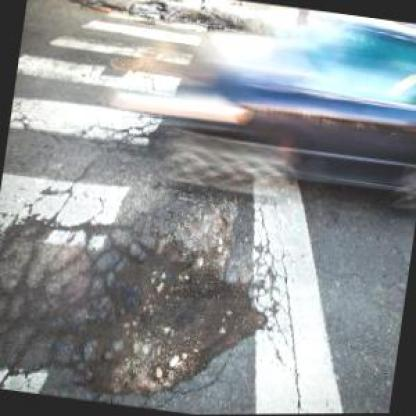pothole: (74, 228, 270, 414)
